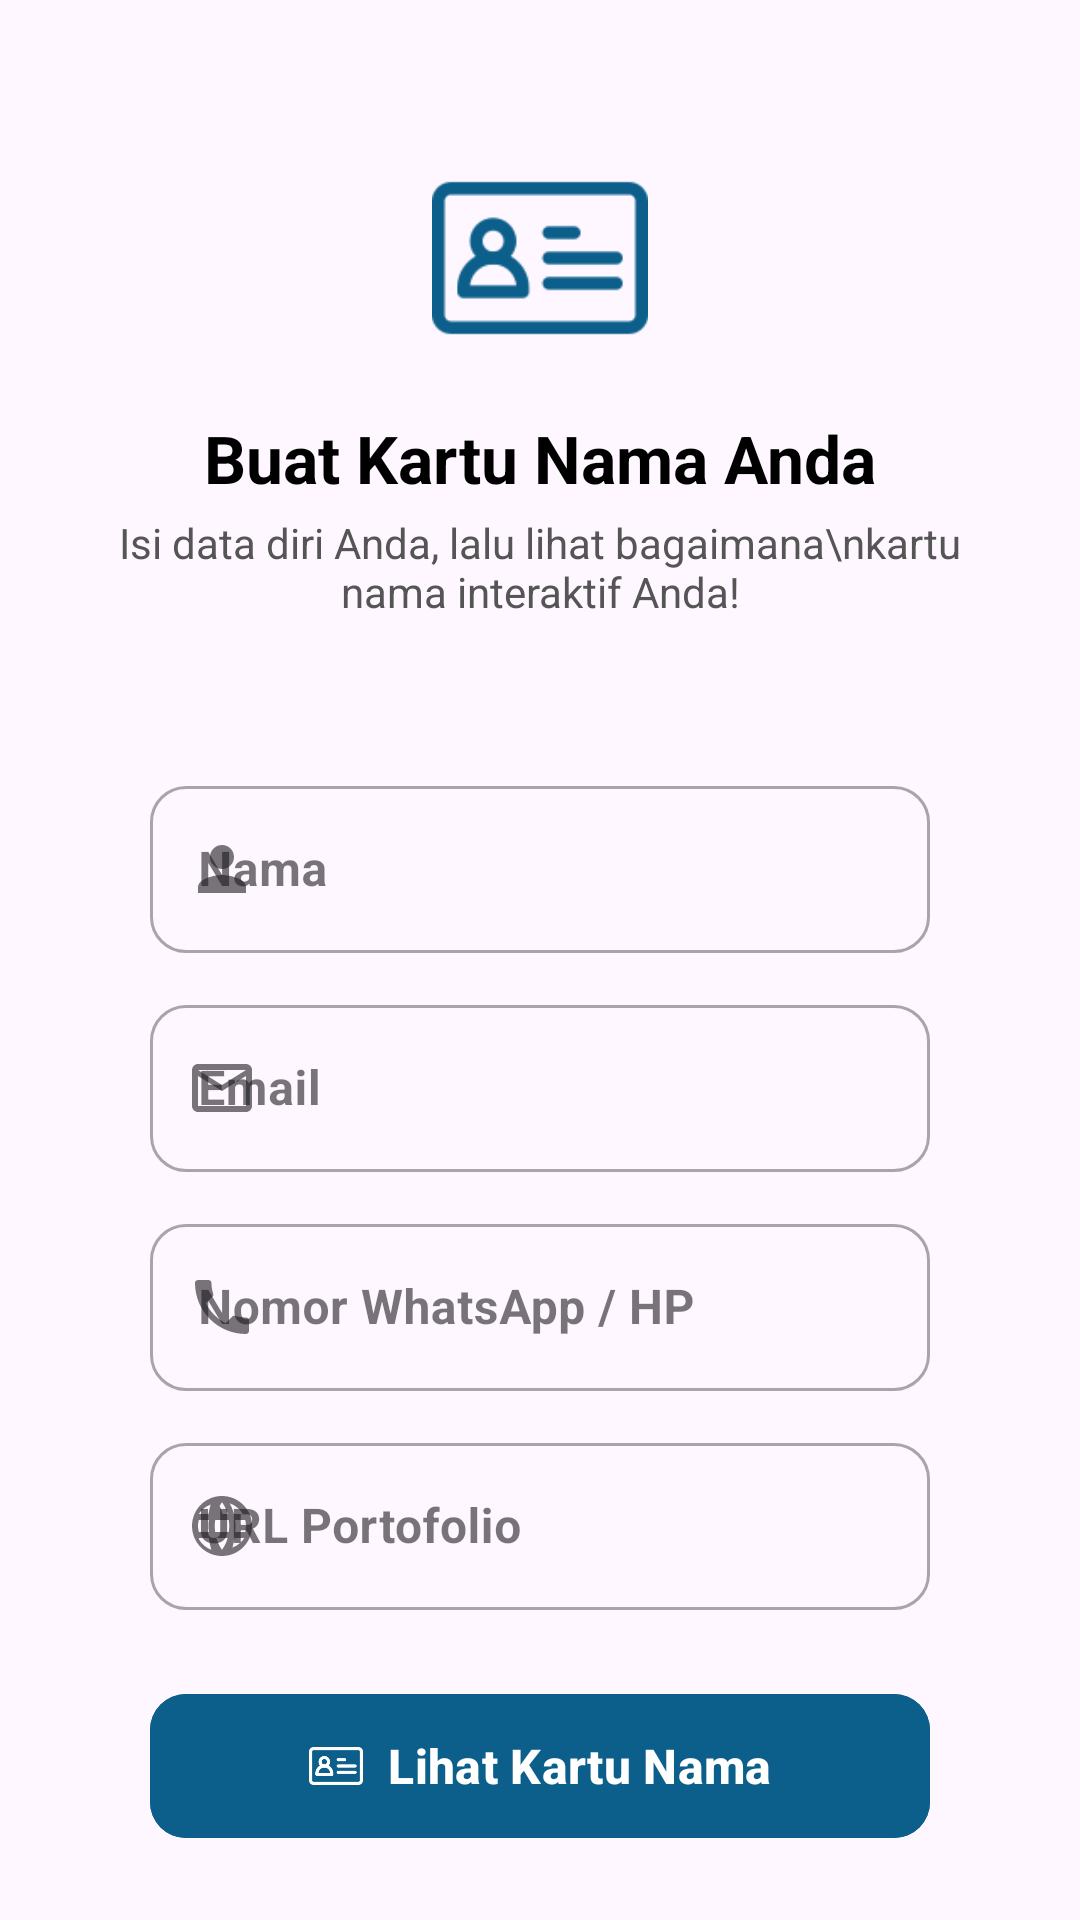

Screen size 1080px x 1920px. Icon name, then its center in pixels as (x=x, y=y):
identity: (x=540, y=258)
